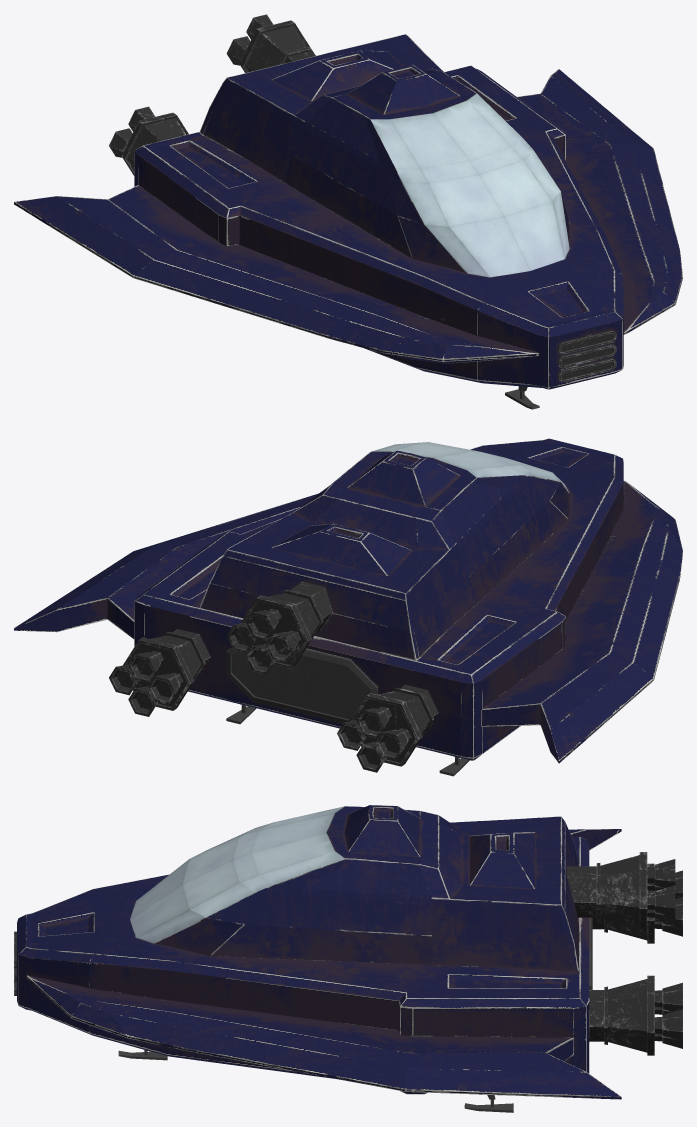
File: Spaceship_Textured.fbx
The picture shows the model from 3 angles, top to bottom: view 1: azimuth 30°, elevation 25°; view 2: azimuth 150°, elevation 25°; view 3: azimuth 270°, elevation 25°; orthographic projection.
Visible parts, largest first — view 1: Cockpit, Wing, Ceiling.004, Body.001, Thrusters.002, Grill; view 2: Cockpit, Wing, Ceiling.004, Thrusters.002, Body.001, Backdoor, Legs; view 3: Cockpit, Wing, Ceiling.004, Body.001, Thrusters.002, Legs.
Boxes of the visible parts, left/top/right/bottom form: Cockpit: left=199, top=34, right=569, bottom=277; Wing: left=14, top=69, right=682, bottom=363; Ceiling.004: left=134, top=65, right=623, bottom=337; Body.001: left=134, top=135, right=623, bottom=389; Thrusters.002: left=109, top=14, right=315, bottom=175; Grill: left=558, top=330, right=616, bottom=382; Cockpit: left=199, top=442, right=569, bottom=660; Wing: left=14, top=480, right=682, bottom=763; Ceiling.004: left=134, top=438, right=623, bottom=683; Thrusters.002: left=109, top=581, right=438, bottom=772; Body.001: left=134, top=479, right=623, bottom=760; Backdoor: left=226, top=647, right=377, bottom=723; Legs: left=226, top=704, right=469, bottom=776; Cockpit: left=130, top=805, right=578, bottom=970; Wing: left=27, top=829, right=621, bottom=1099; Ceiling.004: left=17, top=837, right=589, bottom=1007; Body.001: left=17, top=951, right=589, bottom=1094; Thrusters.002: left=567, top=852, right=682, bottom=1055; Legs: left=118, top=1050, right=513, bottom=1112.
Size of the model in its own units: 7375 by 2974 by 6995.
